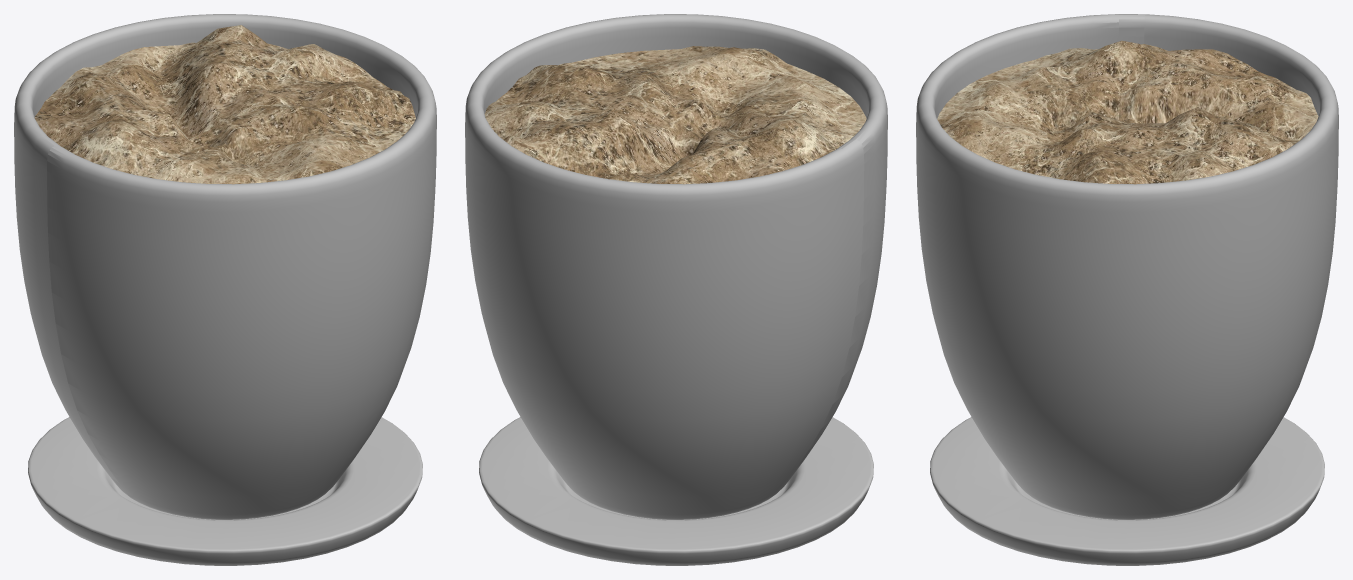
File: flowerport.obj
3 renders of one model, left to right at view 1: azimuth 30°, elevation 25°; view 2: azimuth 150°, elevation 25°; view 3: azimuth 270°, elevation 25°, orthographic.
Visible parts, largest first — view 1: Arch41_030, Arch41_039; view 2: Arch41_030, Arch41_039; view 3: Arch41_030, Arch41_039.
Part boxes in pixels (bbox=[...]): Arch41_030: bbox=[14, 14, 436, 565]; Arch41_039: bbox=[34, 25, 415, 184]; Arch41_030: bbox=[465, 14, 887, 565]; Arch41_039: bbox=[484, 46, 866, 184]; Arch41_030: bbox=[916, 14, 1338, 565]; Arch41_039: bbox=[937, 40, 1318, 184].
Size of the model in its own units: 1883 by 1931 by 1883.
2 materials, 2 textured.
